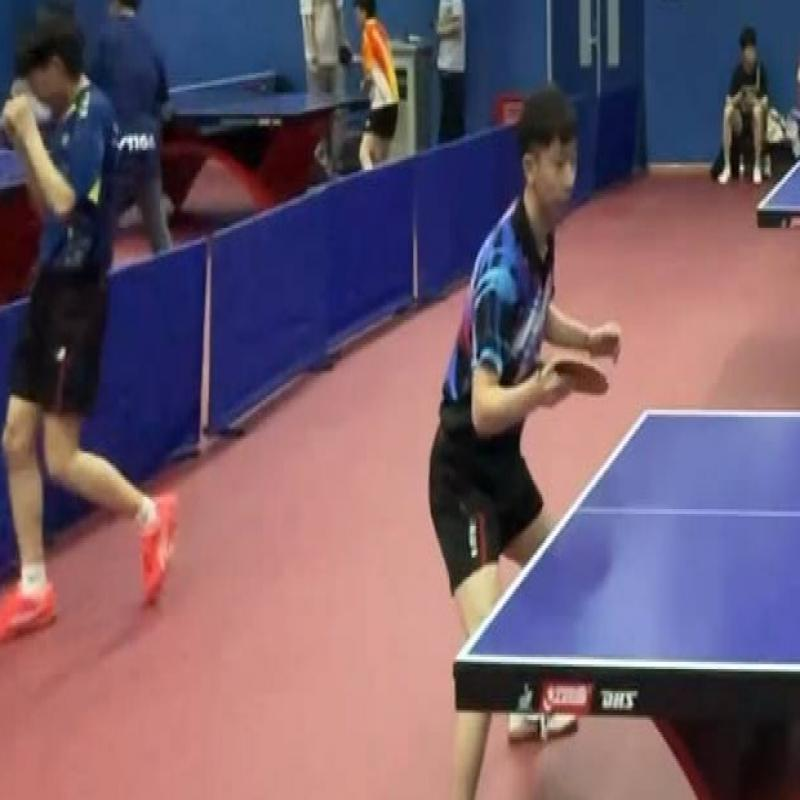bats: (546, 347, 618, 424)
